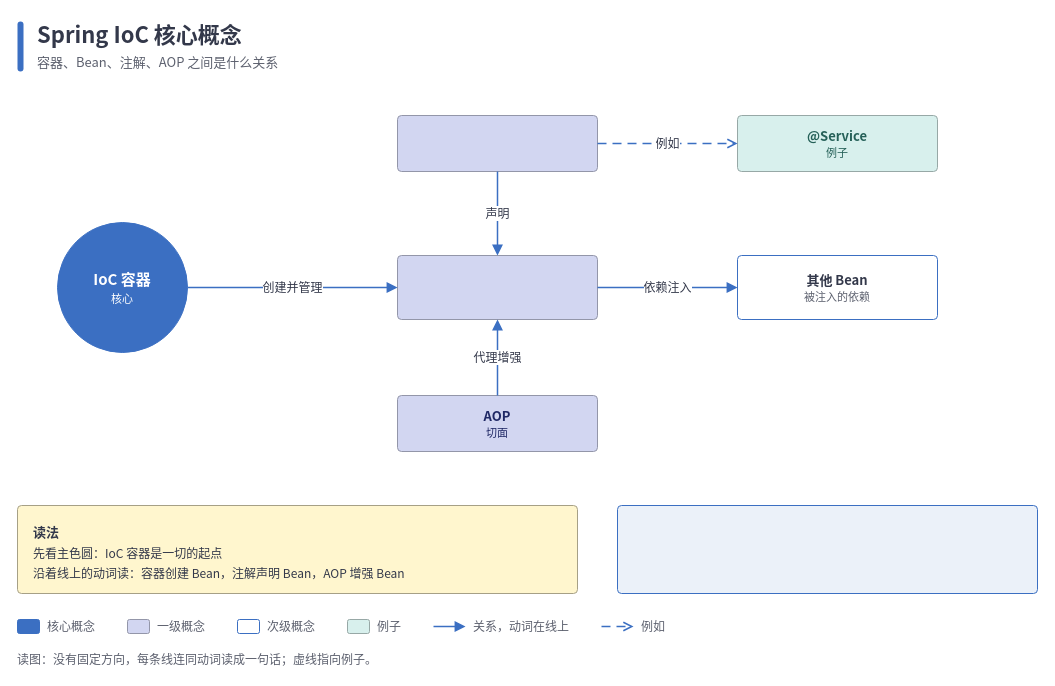
Some shapes in this 1055 by 686 pixel diagram are drawn without their labels. Here are the shapes that lost their labels. From the top down, the centre of each, then its label:
the point at 497,143: 注解 @Component 等
the point at 497,287: Bean 容器托管的对象
the point at 827,549: 不在这张图里 Bean 的生命周期回调 XML 配置方式
